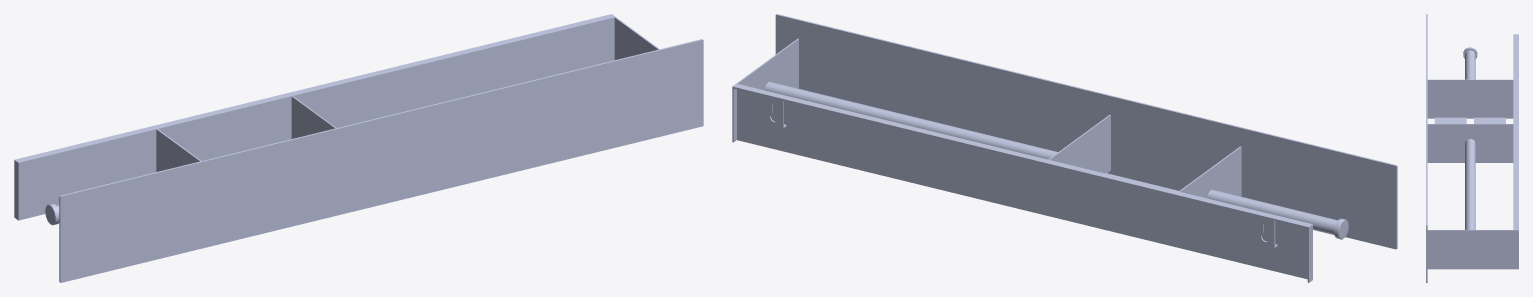
File: skyline-trio.6f8c160697.glb
3 views of the same model, side by side, from view 1: azimuth 30°, elevation 25°; view 2: azimuth 150°, elevation 25°; view 3: azimuth 270°, elevation 25° (orthographic). The views are drawn at different scales.
Visible parts, largest first — view 1: NAUO1; view 2: NAUO1; view 3: NAUO1.
Boxes of the visible parts, x1=… form: NAUO1: x1=14, y1=14, x2=703, y2=282; NAUO1: x1=732, y1=14, x2=1397, y2=282; NAUO1: x1=1426, y1=14, x2=1518, y2=282.
Bounding box in the file's own units: 0.7 × 0.09 × 0.13.
